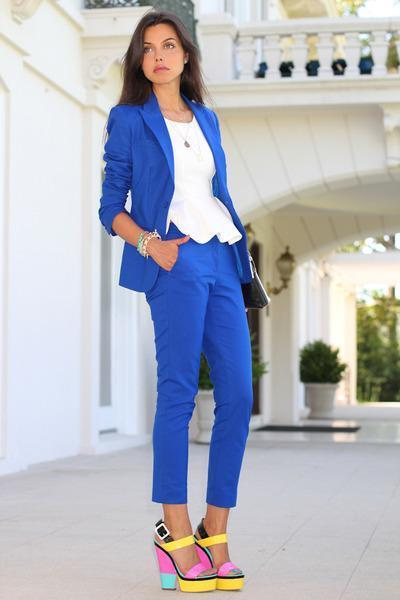jacket: (101, 97, 247, 293)
short sleeve shirt: (147, 111, 244, 240)
trousers: (128, 237, 253, 514)
